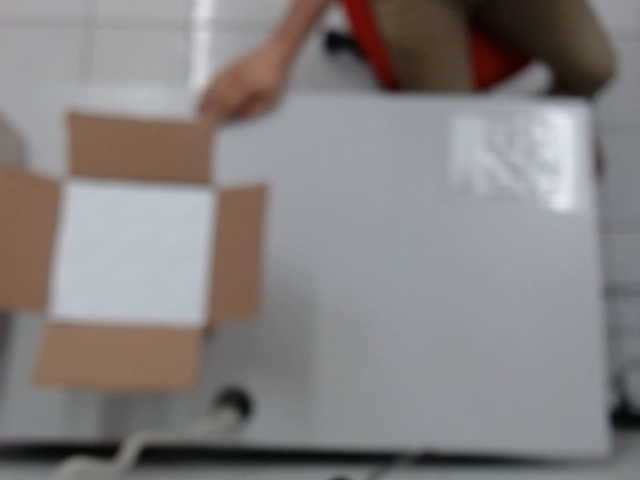divisor: (43, 176, 220, 329)
